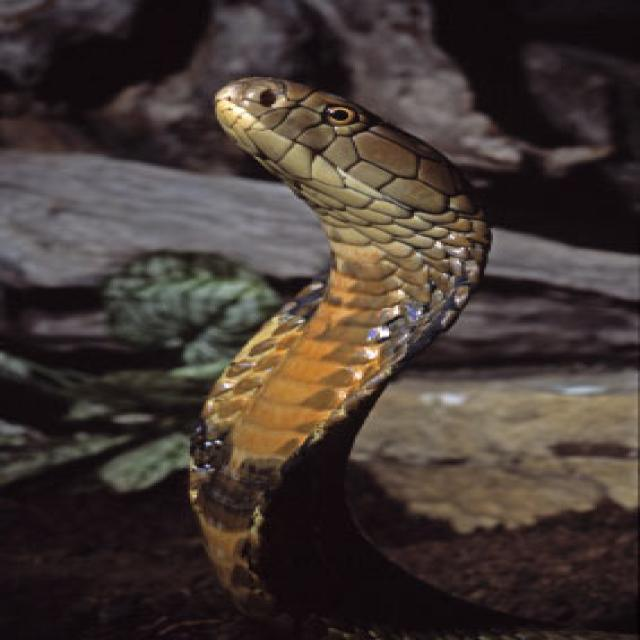Snake: (183, 74, 636, 638)
